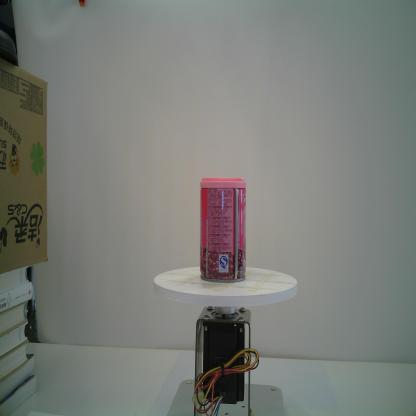Canned Food: (199, 177, 247, 283)
